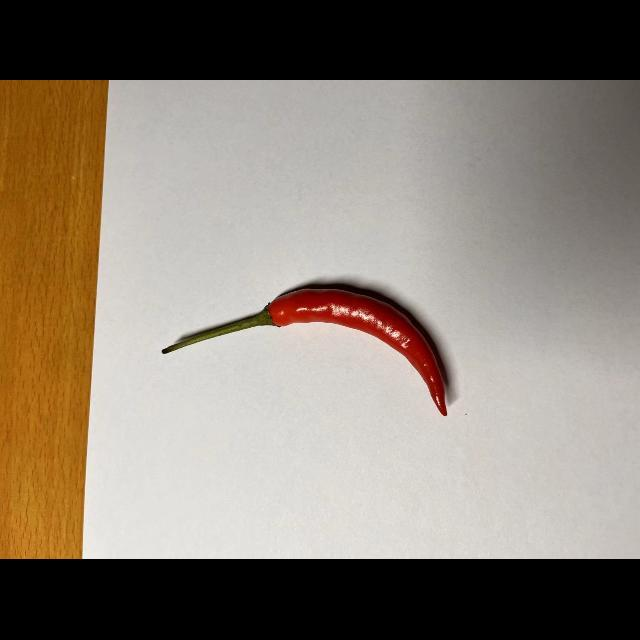chili_pepper: (158, 279, 452, 418)
